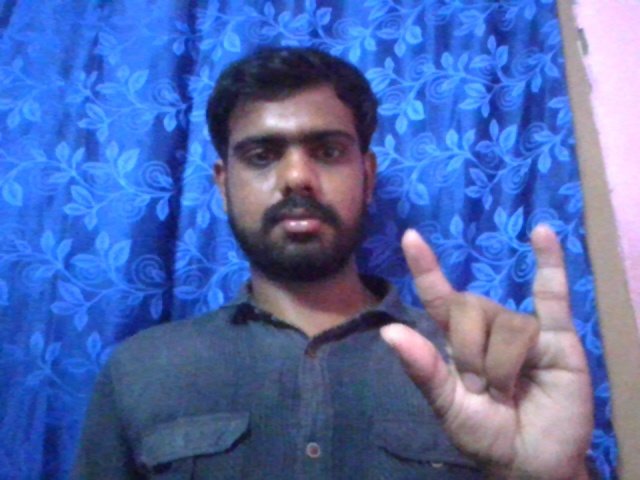IloveYou: (372, 209, 598, 469)
